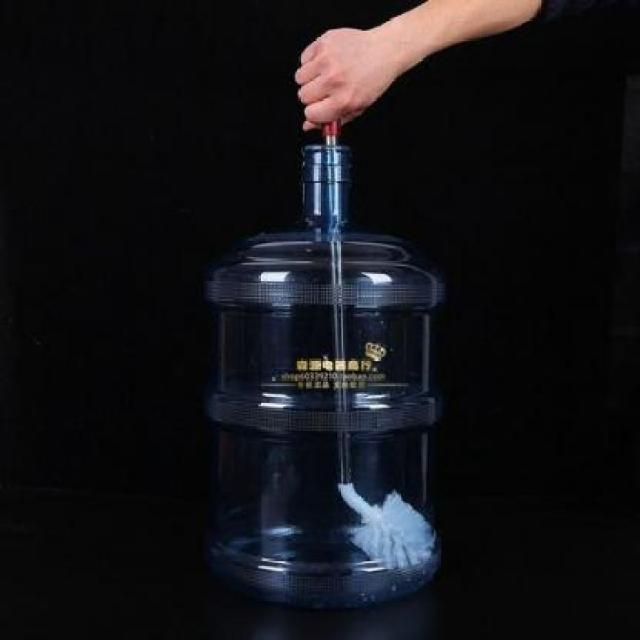coolerbottle: (198, 140, 444, 616)
